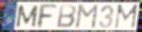3: (99, 5, 115, 29)
B: (55, 4, 78, 29)
F: (37, 4, 59, 30)
M: (113, 4, 139, 30), (74, 4, 100, 29), (15, 4, 40, 28)
